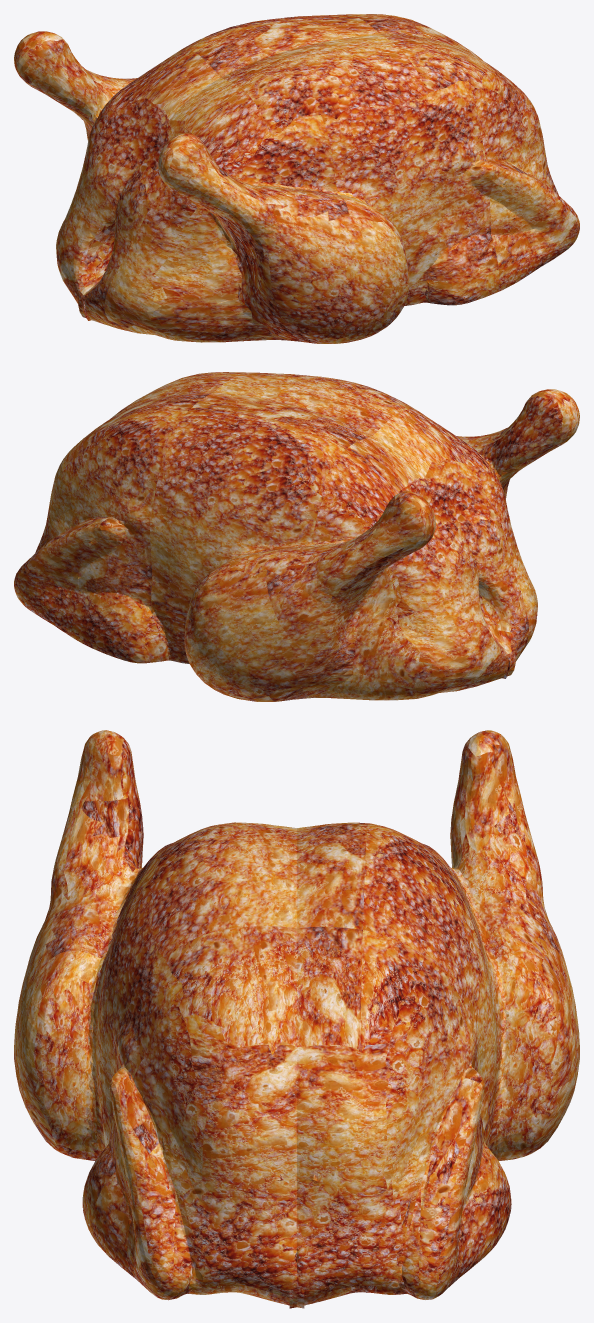
Rendered from turkey.dae.
3 renders of one model, top to bottom at view 1: azimuth 30°, elevation 25°; view 2: azimuth 150°, elevation 25°; view 3: azimuth 270°, elevation 25°, orthographic. The views are drawn at different scales.
Visible parts, largest first — view 1: Turkey Roast; view 2: Turkey Roast; view 3: Turkey Roast.
Part boxes in pixels (x1,y1,x2,y2): Turkey Roast: (14,14,579,343); Turkey Roast: (14,372,579,701); Turkey Roast: (14,730,579,1308).
Bounding box in the file's own units: 0.3908 × 0.3148 × 0.1872.
1 material, 1 textured.
